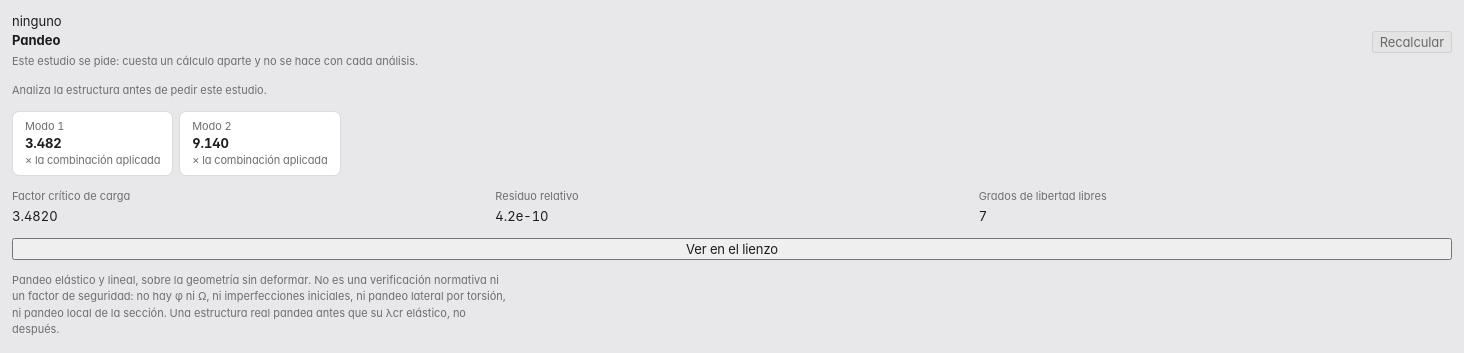
Test: vista de estabilidad · pandeo calculado › cambiar de modo cambia las métricas
This screenshot has width=1464, height=353.
Click the option "Modo 2 9.140 × la combinación aplicada" at (260, 144), box 179,111 -> 341,176
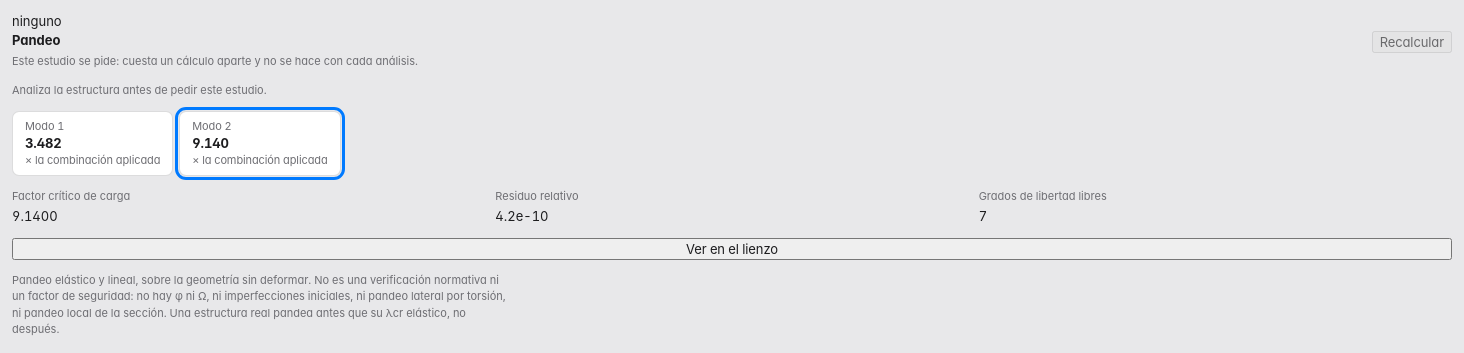
Check: the text "9.1400" is shown, box 12,208 -> 58,224
